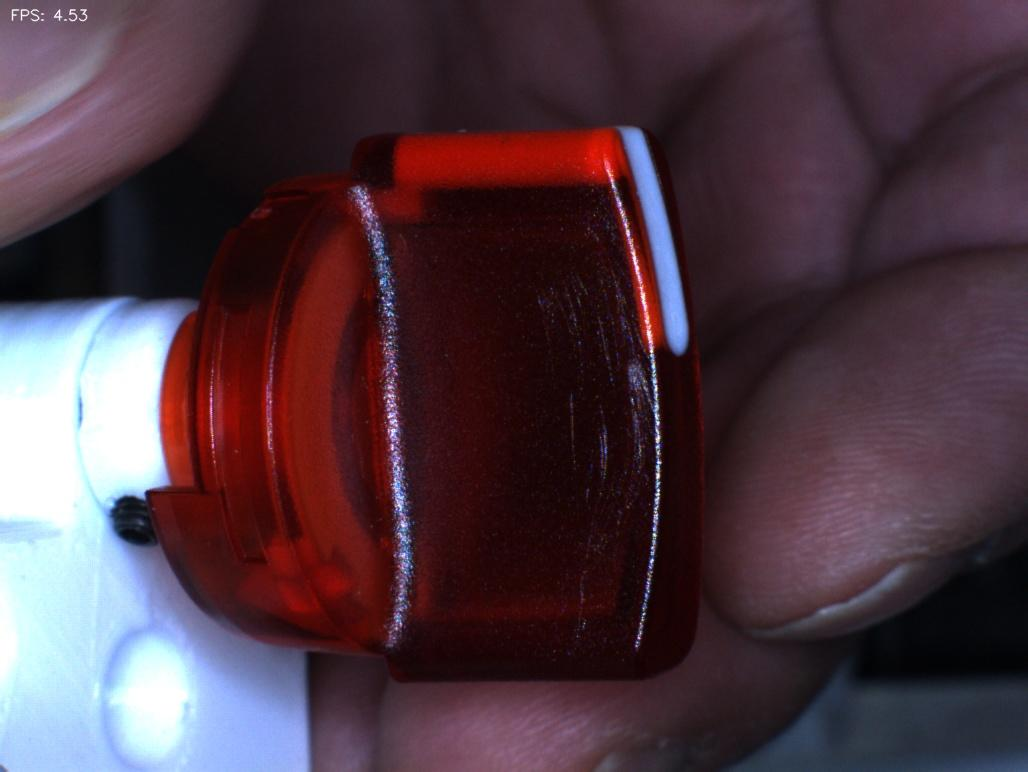Givrage: (532, 245, 653, 482)
